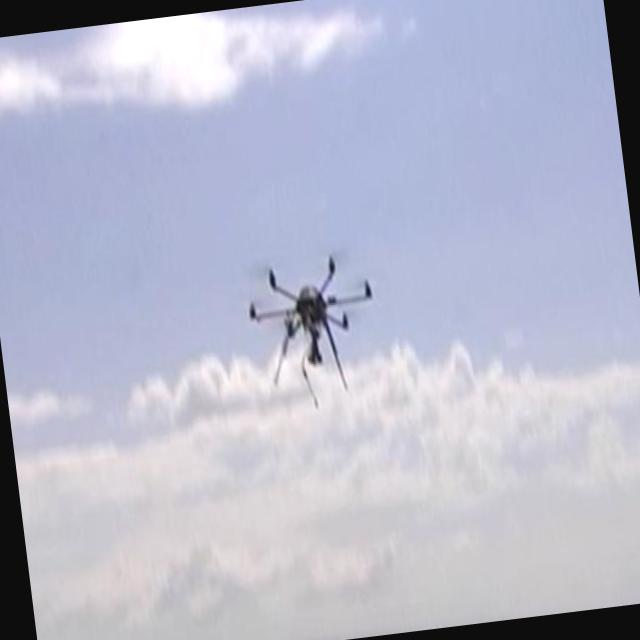drone: (238, 239, 386, 415)
